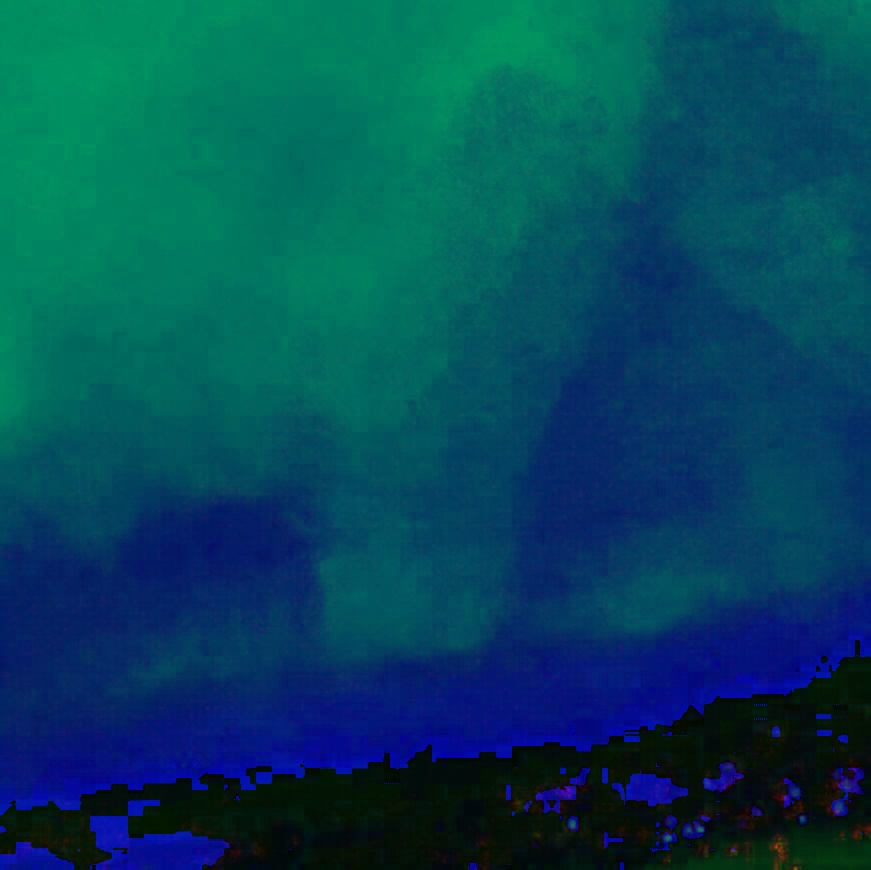rip_current: (244, 270, 564, 642)
